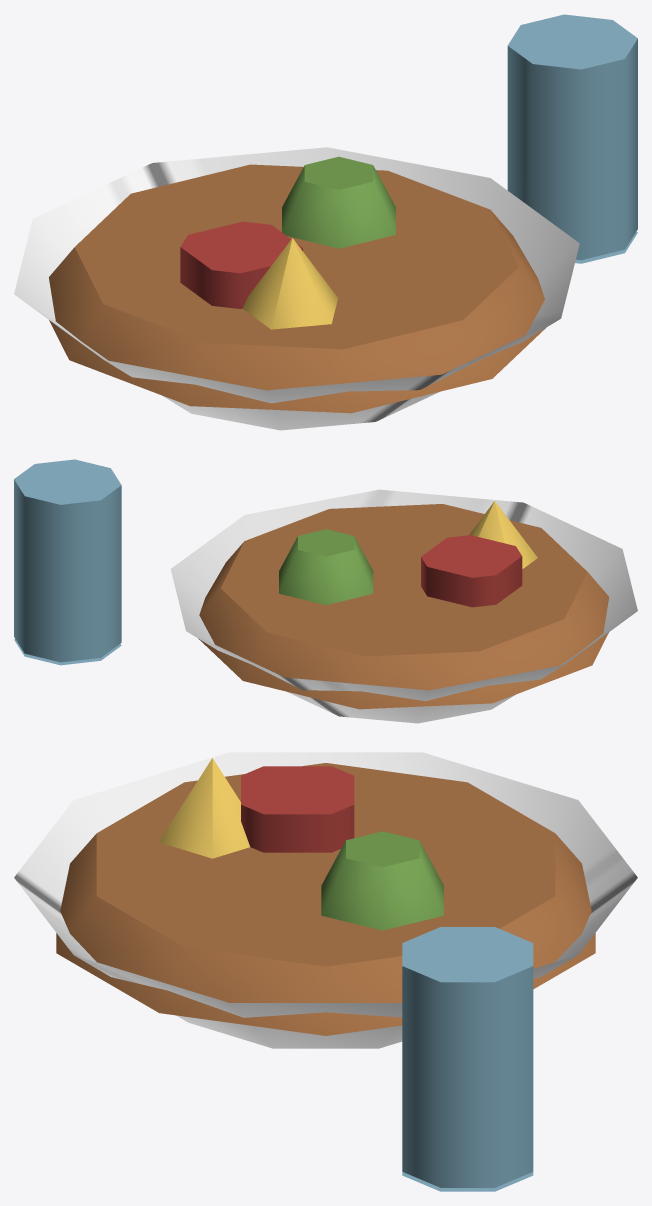
File: meal_lavish.obj
3 renders of one model, top to bottom at view 1: azimuth 30°, elevation 25°; view 2: azimuth 150°, elevation 25°; view 3: azimuth 270°, elevation 25°, orthographic. The views are drawn at different scales.
Parts seen in each view (by area): view 1: part_021_food_stew, part_049_glass, dish, part_032_food_green, part_039_meat, part_044_food_yellow; view 2: part_021_food_stew, part_049_glass, dish, part_039_meat, part_032_food_green, part_044_food_yellow, part_065_glass; view 3: part_021_food_stew, part_049_glass, dish, part_032_food_green, part_039_meat, part_044_food_yellow.
Part boxes in pixels (x1,y1,x2,y2): part_021_food_stew: (49, 164, 545, 413); part_049_glass: (507, 14, 637, 260); dish: (14, 147, 579, 430); part_032_food_green: (282, 156, 395, 248); part_039_meat: (180, 221, 302, 308); part_044_food_yellow: (242, 238, 337, 329); part_021_food_stew: (198, 504, 609, 709); part_049_glass: (14, 459, 121, 662); dish: (170, 489, 637, 723); part_039_meat: (421, 535, 522, 607); part_032_food_green: (279, 529, 373, 605); part_044_food_yellow: (469, 501, 537, 568); part_065_glass: (14, 639, 121, 665); part_021_food_stew: (56, 763, 595, 1035); part_049_glass: (402, 927, 533, 1187); dish: (14, 752, 637, 1048); part_032_food_green: (321, 831, 443, 930); part_039_meat: (241, 766, 354, 852); part_044_food_yellow: (159, 758, 249, 858).
Size of the model in its own units: 0.5554 by 0.163 by 0.44.
